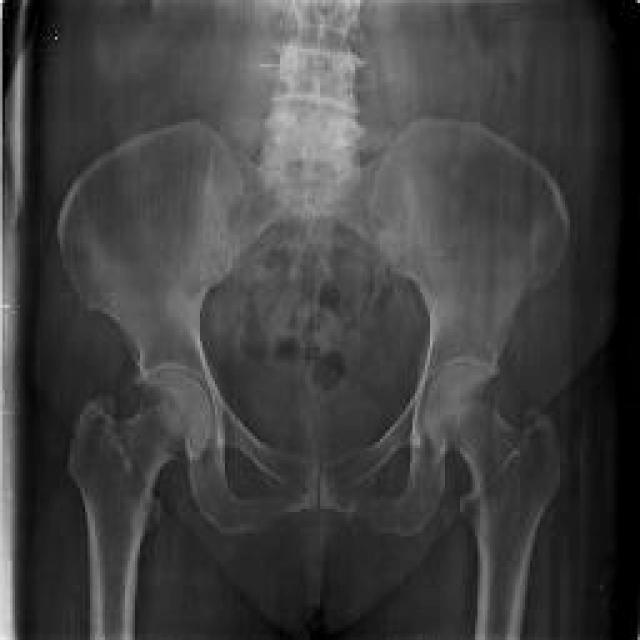normal: (56, 121, 318, 640), (322, 127, 569, 640)
